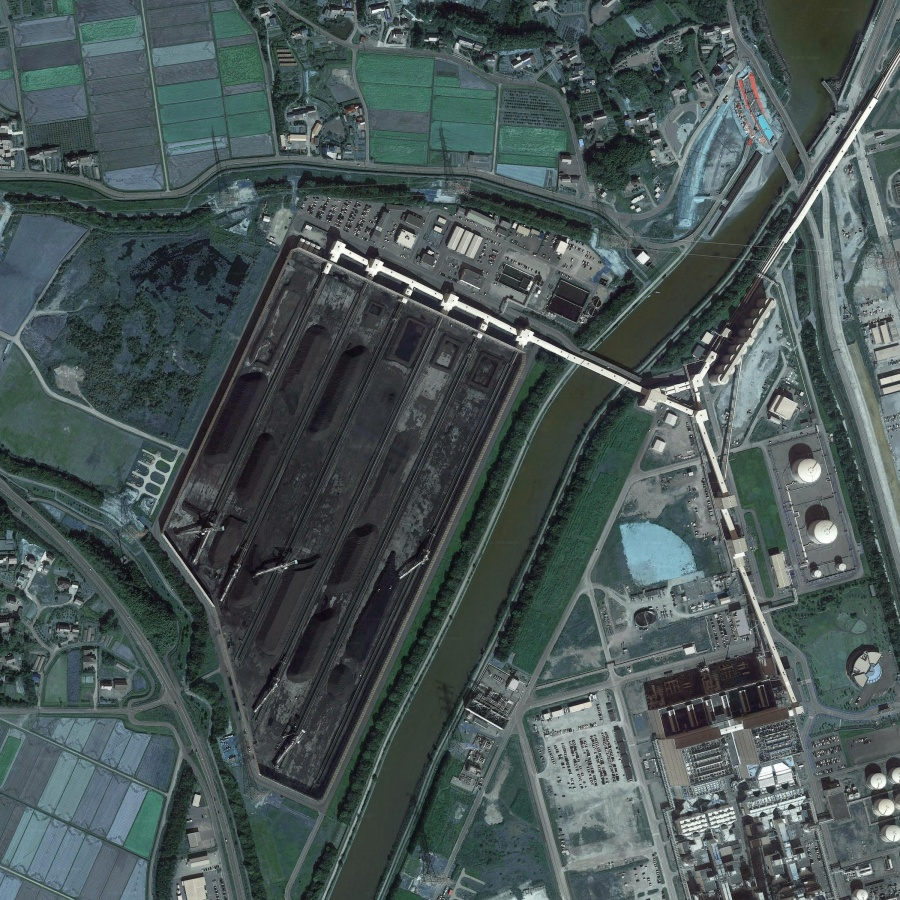PowerPlant: (162, 238, 529, 794)
